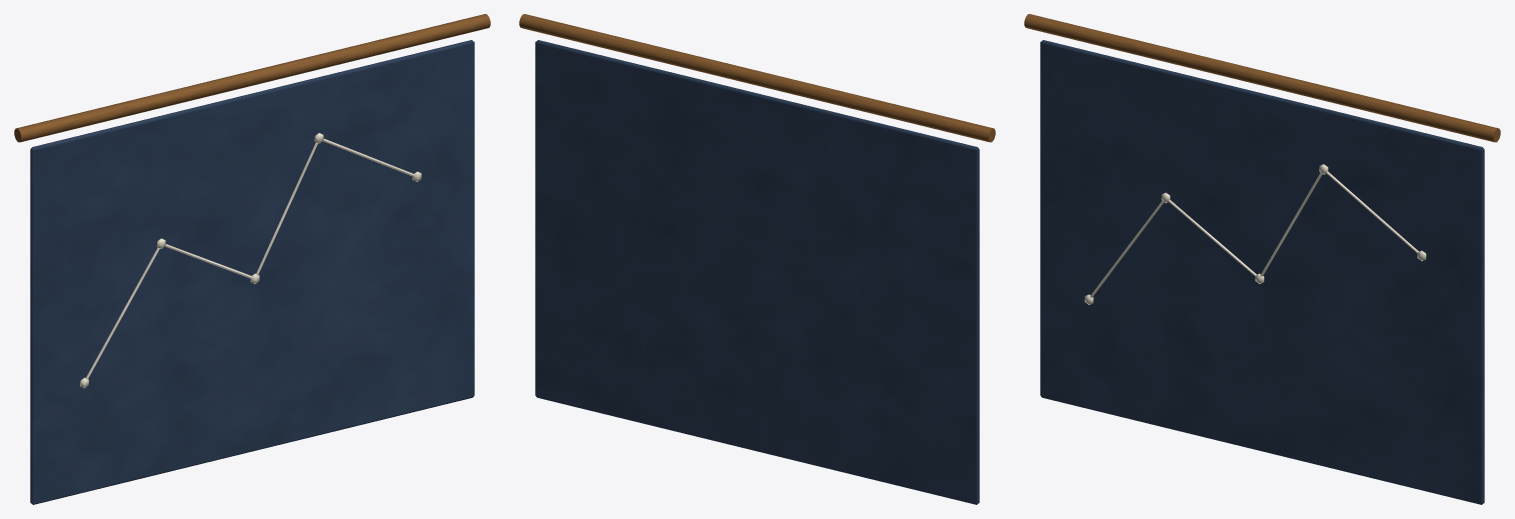
Rendered from Furn_DecorTapestry.fbx.
The picture shows the model from 3 angles, left to right: view 1: azimuth 30°, elevation 25°; view 2: azimuth 150°, elevation 25°; view 3: azimuth 330°, elevation 25°; orthographic projection.
Visible parts, largest first — view 1: Furn_DecorTapestry_Mesh; view 2: Furn_DecorTapestry_Mesh; view 3: Furn_DecorTapestry_Mesh.
Boxes of the visible parts, box(x1,y1,x2,y2) form: Furn_DecorTapestry_Mesh: box(14, 14, 490, 504); Furn_DecorTapestry_Mesh: box(519, 14, 995, 504); Furn_DecorTapestry_Mesh: box(1024, 14, 1500, 504).
Size of the model in its own units: 1.1 by 0.85 by 0.03.
Materials: 3 (3 with a texture image).
